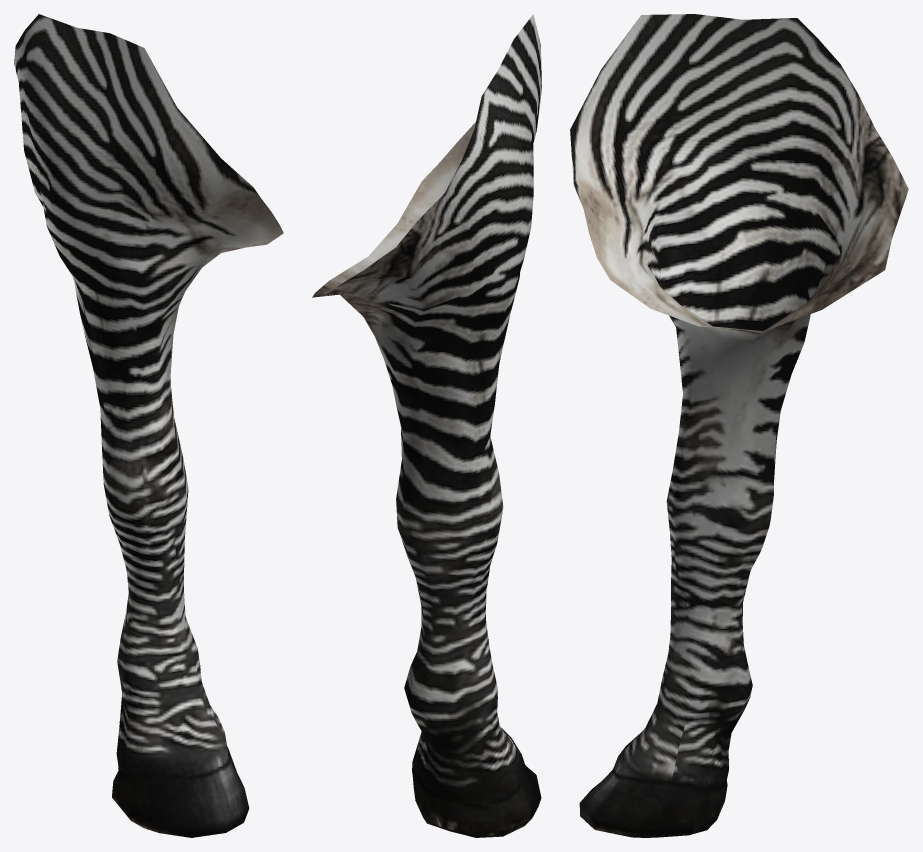
File: zF_rightleg.obj
The picture shows the model from 3 angles, left to right: view 1: azimuth 30°, elevation 25°; view 2: azimuth 150°, elevation 25°; view 3: azimuth 270°, elevation 25°; orthographic projection. The views are drawn at different scales.
Parts seen in each view (by area): view 1: Object_50.001; view 2: Object_50.001; view 3: Object_50.001.
Boxes of the visible parts, x1,y1,x2,y2 form: Object_50.001: [14, 14, 283, 837]; Object_50.001: [312, 14, 541, 837]; Object_50.001: [570, 14, 908, 837].
Size of the model in its own units: 6.18 by 25.75 by 10.04.
Materials: 1 (1 with a texture image).
